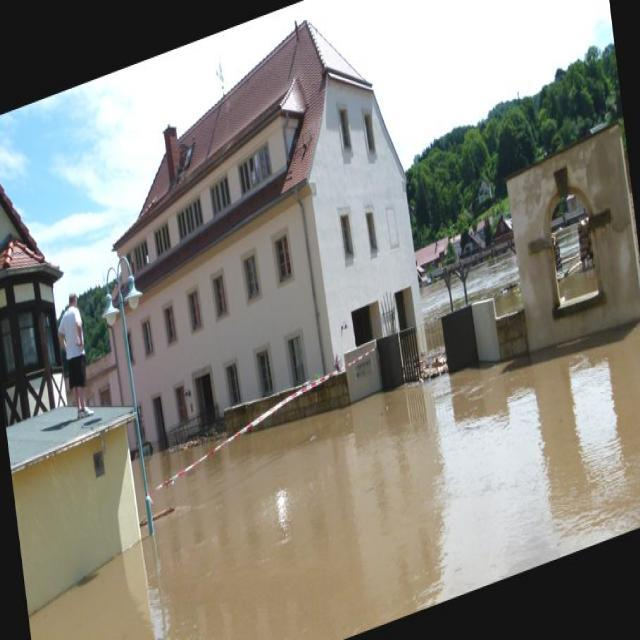flood: (14, 256, 640, 639)
